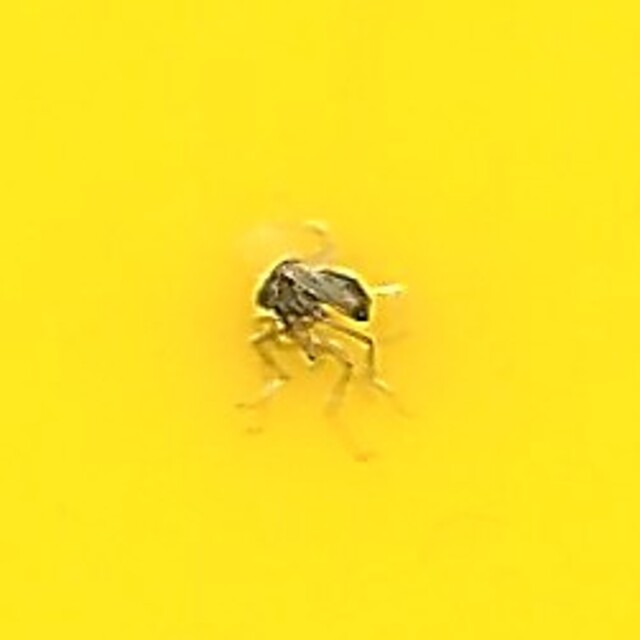Brachycera: (255, 251, 385, 389)
